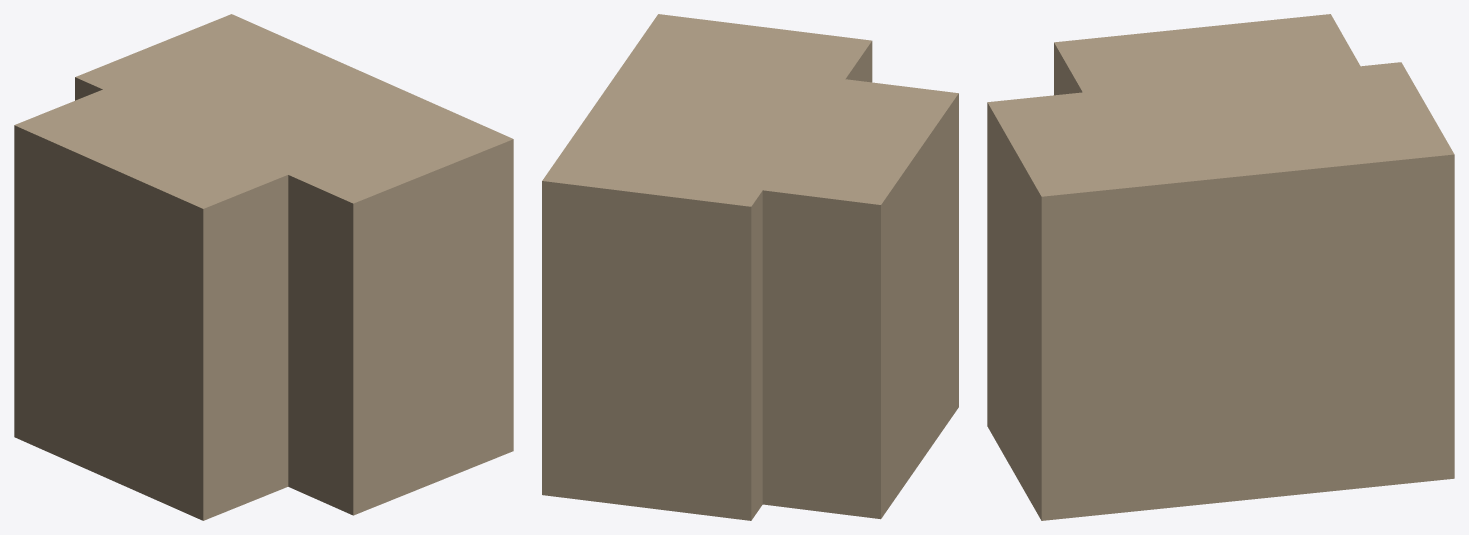
The model's file is bld_107639041.dae.
The picture shows the model from 3 angles, left to right: view 1: azimuth 30°, elevation 25°; view 2: azimuth 150°, elevation 25°; view 3: azimuth 270°, elevation 25°; orthographic projection. The views are drawn at different scales.
Visible parts, largest first — view 1: bld_107639041; view 2: bld_107639041; view 3: bld_107639041.
Boxes of the visible parts, x1,y1,x2,y2 form: bld_107639041: (14,14,513,520); bld_107639041: (542,14,958,520); bld_107639041: (987,14,1454,520).
Size of the model in its own units: 9.67 by 10.45 by 8.
